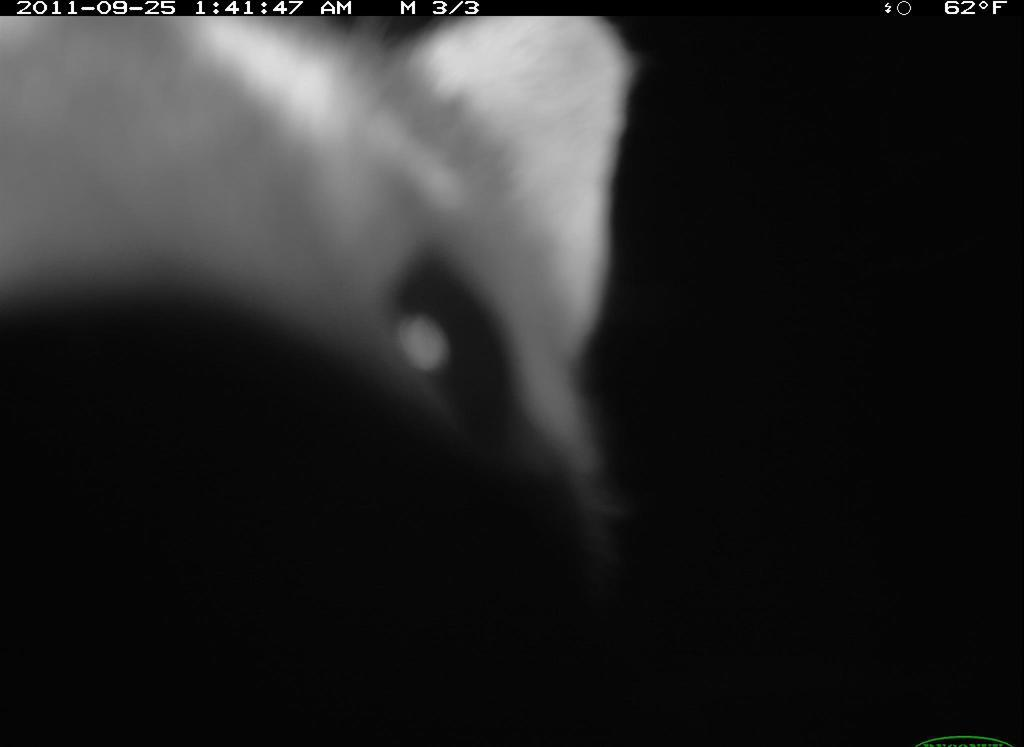raccoon: (1, 17, 630, 747)
